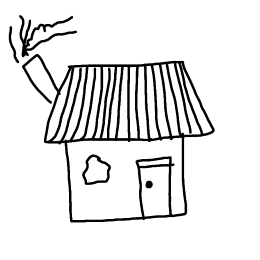door: (129, 154, 182, 220)
open_window: (76, 148, 118, 195)
roof: (28, 58, 222, 148)
smoking_chimney: (6, 11, 81, 106)
wall: (57, 134, 191, 225)
